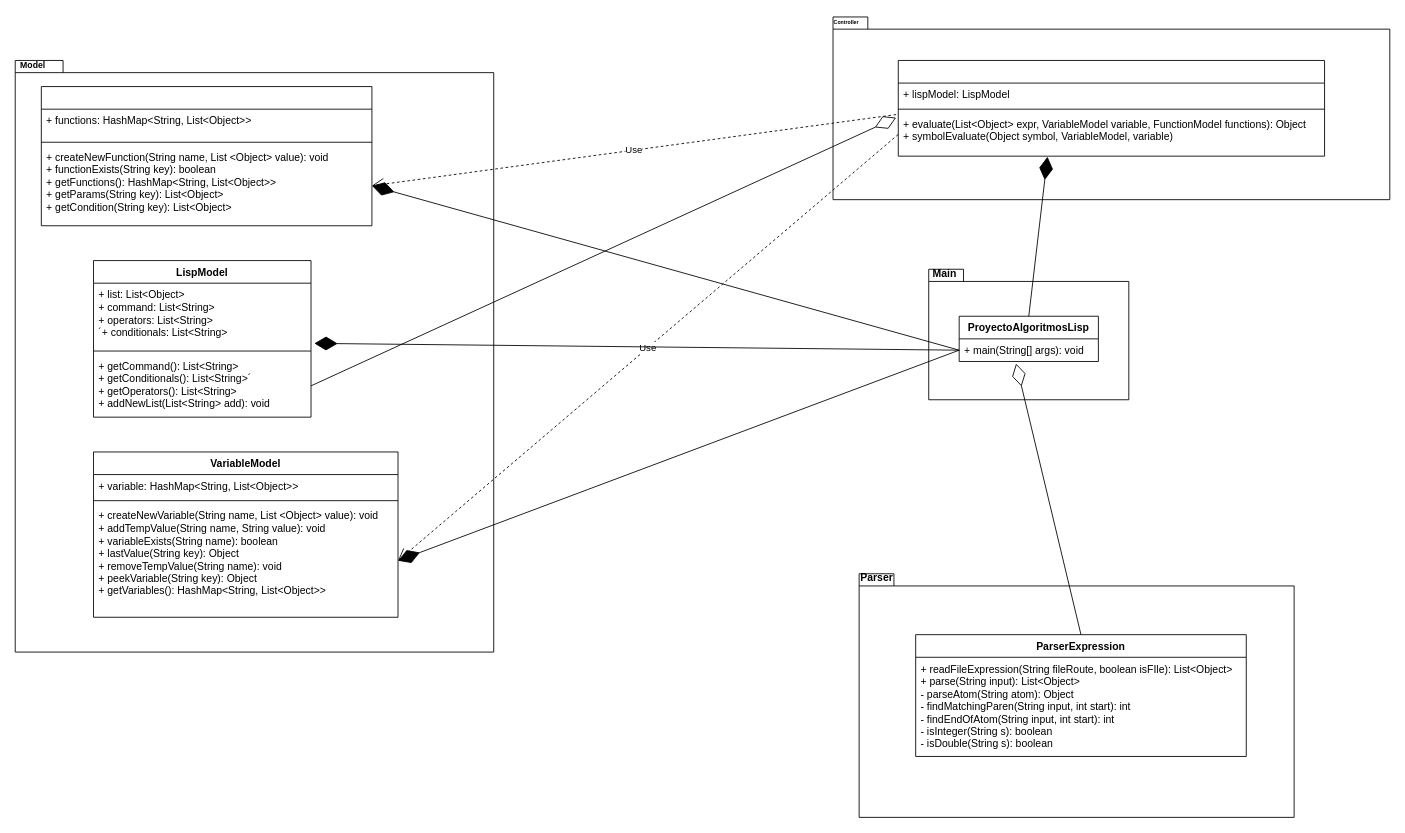
Some shapes in this 1405 by 833 pixel diagram are drawn without their labels. The box of each missing label's shape, as (x1, y1, x2, y2) in pixels:
EvaluateExpression: (897, 60, 1325, 156)
FunctionModel: (40, 86, 372, 226)
